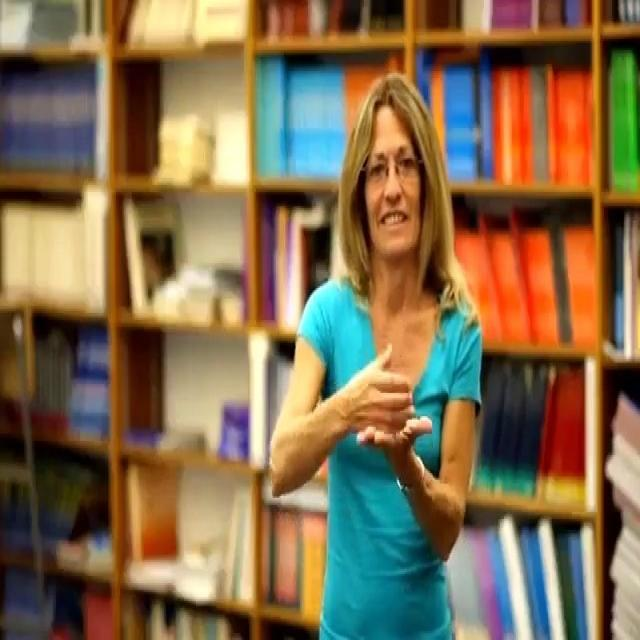cup: (340, 326, 438, 492)
